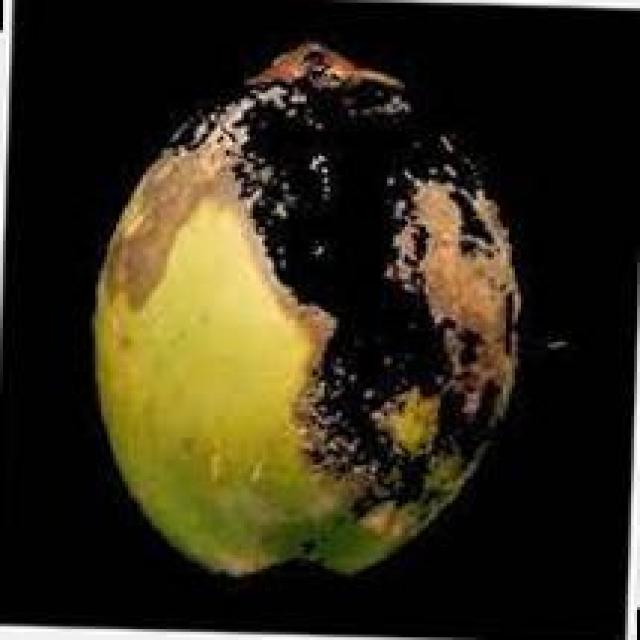damaged: (95, 41, 521, 574)
